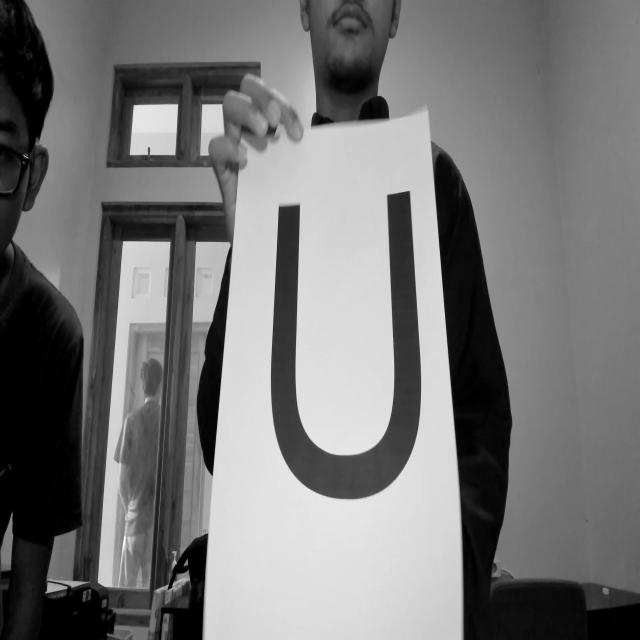u: (262, 178, 440, 511)
